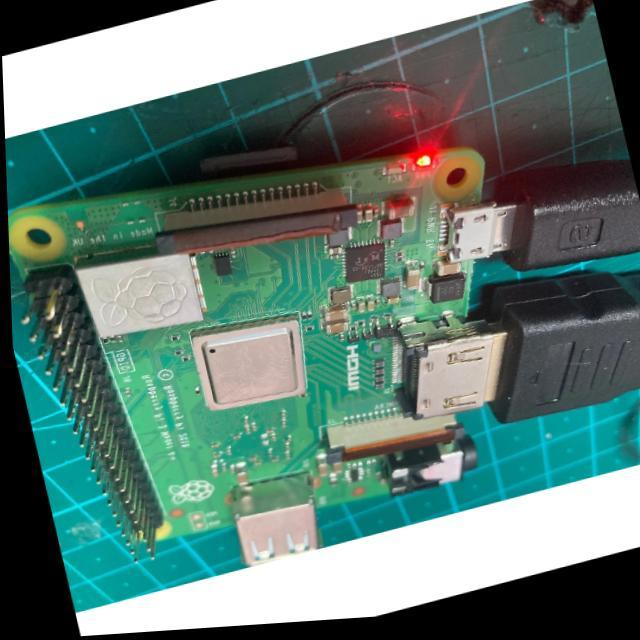Raspberry-Pi-3-A-: (12, 151, 506, 565)
